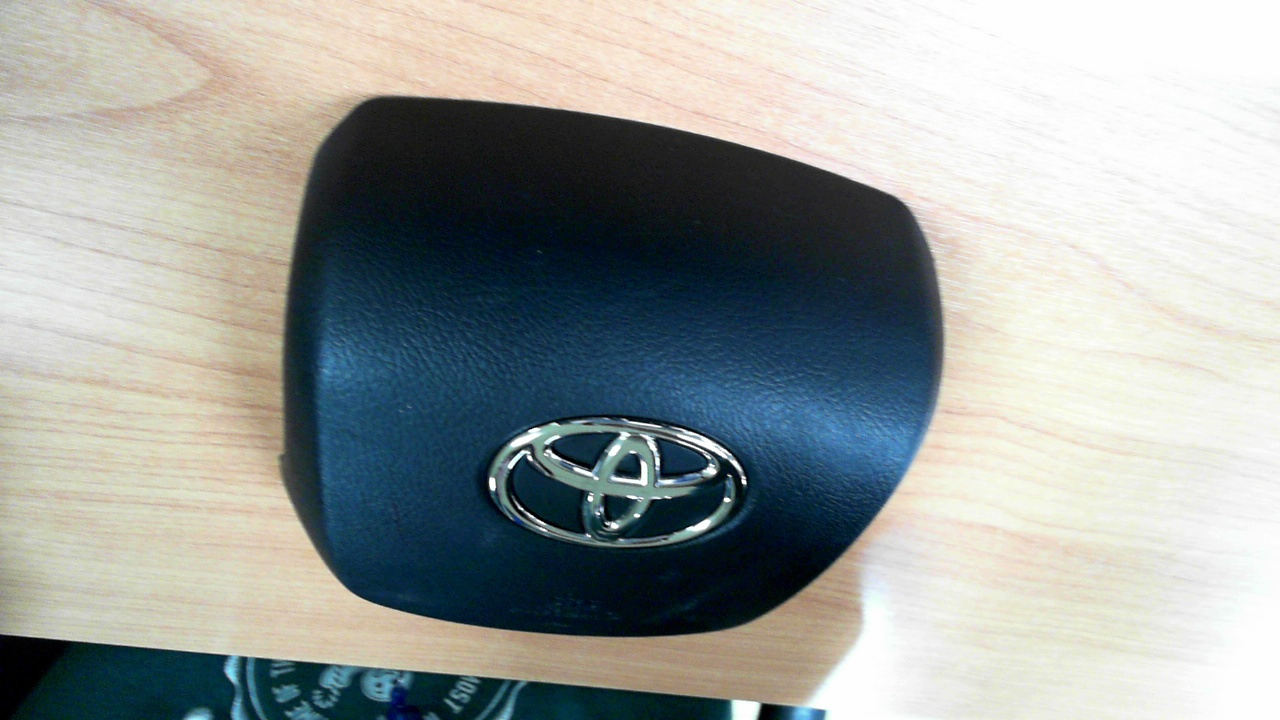Airbag: (278, 95, 945, 639)
Toyota: (488, 416, 748, 548)
